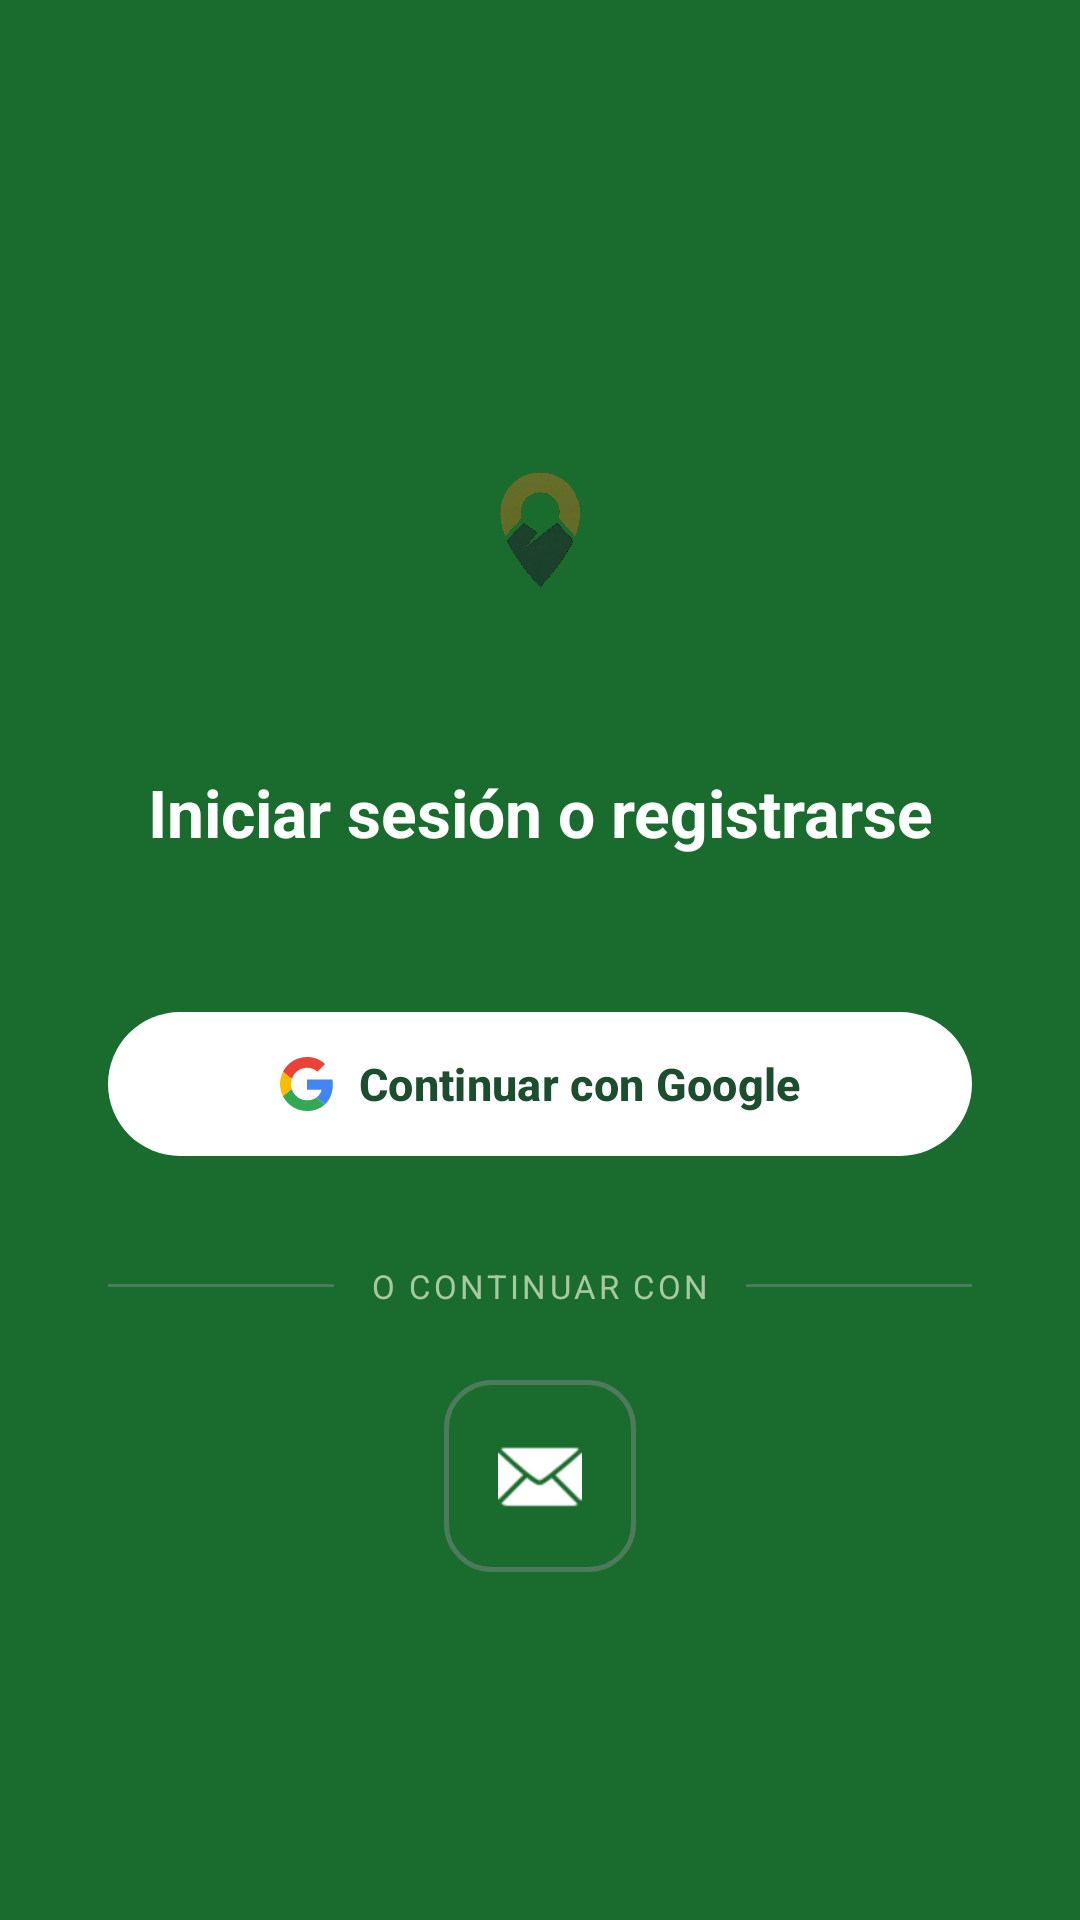

Screen size 1080*1920. Icon name, then its box in pixels as [left=x1, top=y1, right=x2, bottom=y2]:
email: [left=444, top=1380, right=636, bottom=1572]
